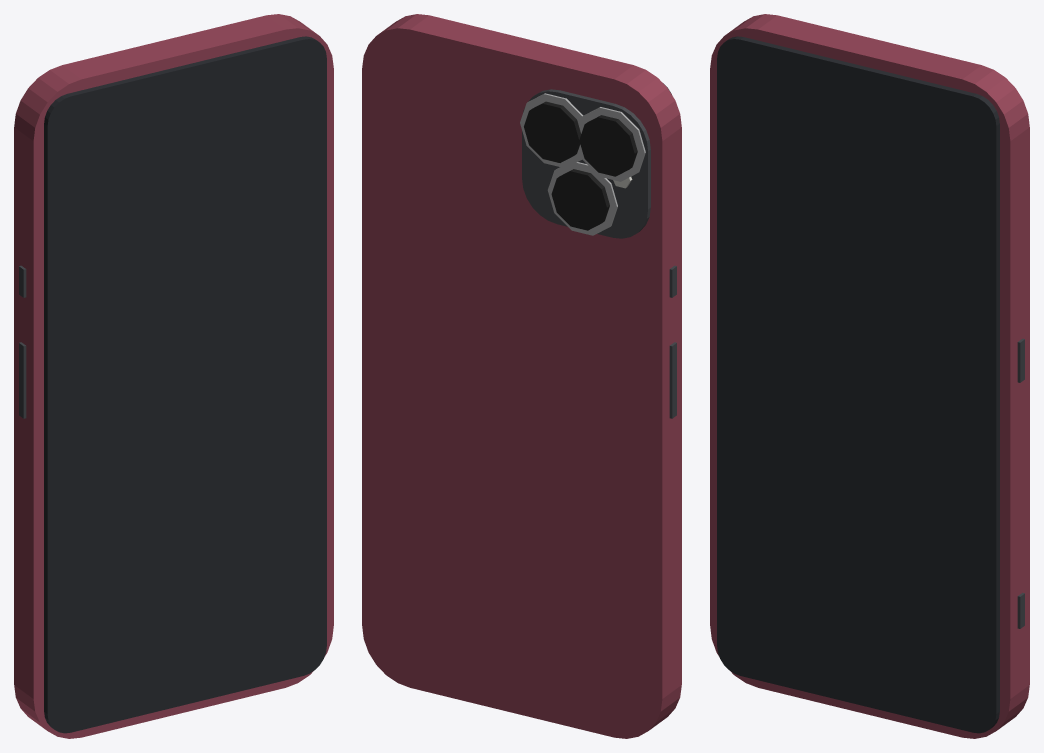
The model's file is 01_apple_iphone_18_pro_max.glb.
The picture shows the model from 3 angles, left to right: view 1: azimuth 30°, elevation 25°; view 2: azimuth 150°, elevation 25°; view 3: azimuth 330°, elevation 25°; orthographic projection.
Parts seen in each view (by area): view 1: geometry_1, geometry_0, geometry_4; view 2: geometry_0, geometry_7, geometry_12, geometry_8, geometry_10, geometry_13, geometry_9, geometry_11, geometry_4; view 3: geometry_1, geometry_0.
Boxes of the visible parts, x1,y1,x2,y2 form: geometry_1: (44, 36, 326, 733); geometry_0: (14, 14, 333, 738); geometry_4: (19, 342, 26, 418); geometry_0: (362, 14, 681, 738); geometry_7: (522, 89, 650, 238); geometry_12: (551, 169, 609, 230); geometry_8: (579, 115, 637, 176); geometry_10: (524, 101, 581, 162); geometry_13: (547, 161, 617, 235); geometry_9: (579, 107, 645, 181); geometry_11: (520, 93, 584, 167); geometry_4: (669, 342, 676, 418); geometry_1: (717, 36, 999, 733); geometry_0: (710, 14, 1029, 738).
Size of the model in its own units: 0.2532 by 0.5244 by 0.0453.
